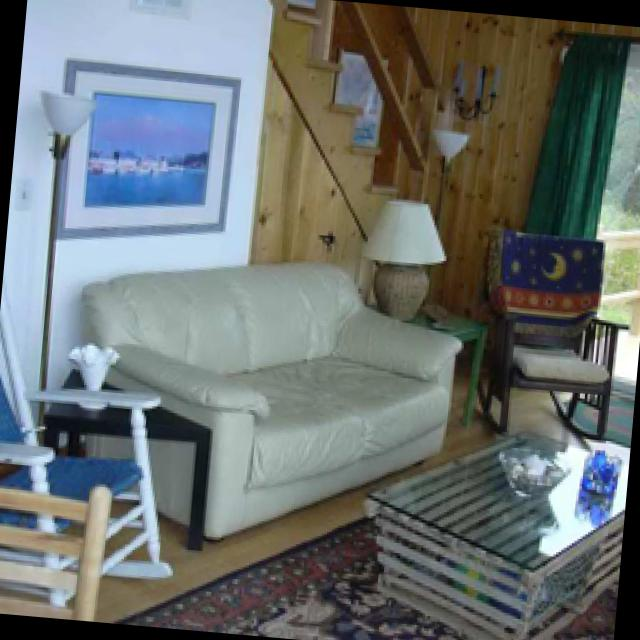2001: (602, 53, 640, 385)
blanket: (504, 229, 608, 339)
bouquet: (69, 346, 112, 386)
candles: (458, 57, 508, 116)
carpet floor: (126, 505, 616, 640)
chair -occluded-: (0, 272, 175, 594), (479, 228, 626, 435), (0, 481, 114, 614)
curtain crop: (527, 33, 630, 236)
lamp crop: (36, 90, 99, 443), (364, 199, 443, 316), (435, 125, 477, 228)
painting crop: (59, 55, 243, 229), (339, 44, 391, 143)
pillow occluded: (515, 342, 614, 381)
rug -partially obscured-: (118, 429, 628, 640), (568, 391, 634, 437)
small table part: (377, 417, 631, 640), (46, 366, 216, 546), (396, 298, 493, 422)
sofa bed: (81, 255, 462, 529)
stairs: (272, 6, 445, 239)
vase -X: (502, 441, 578, 498), (587, 445, 624, 494)
